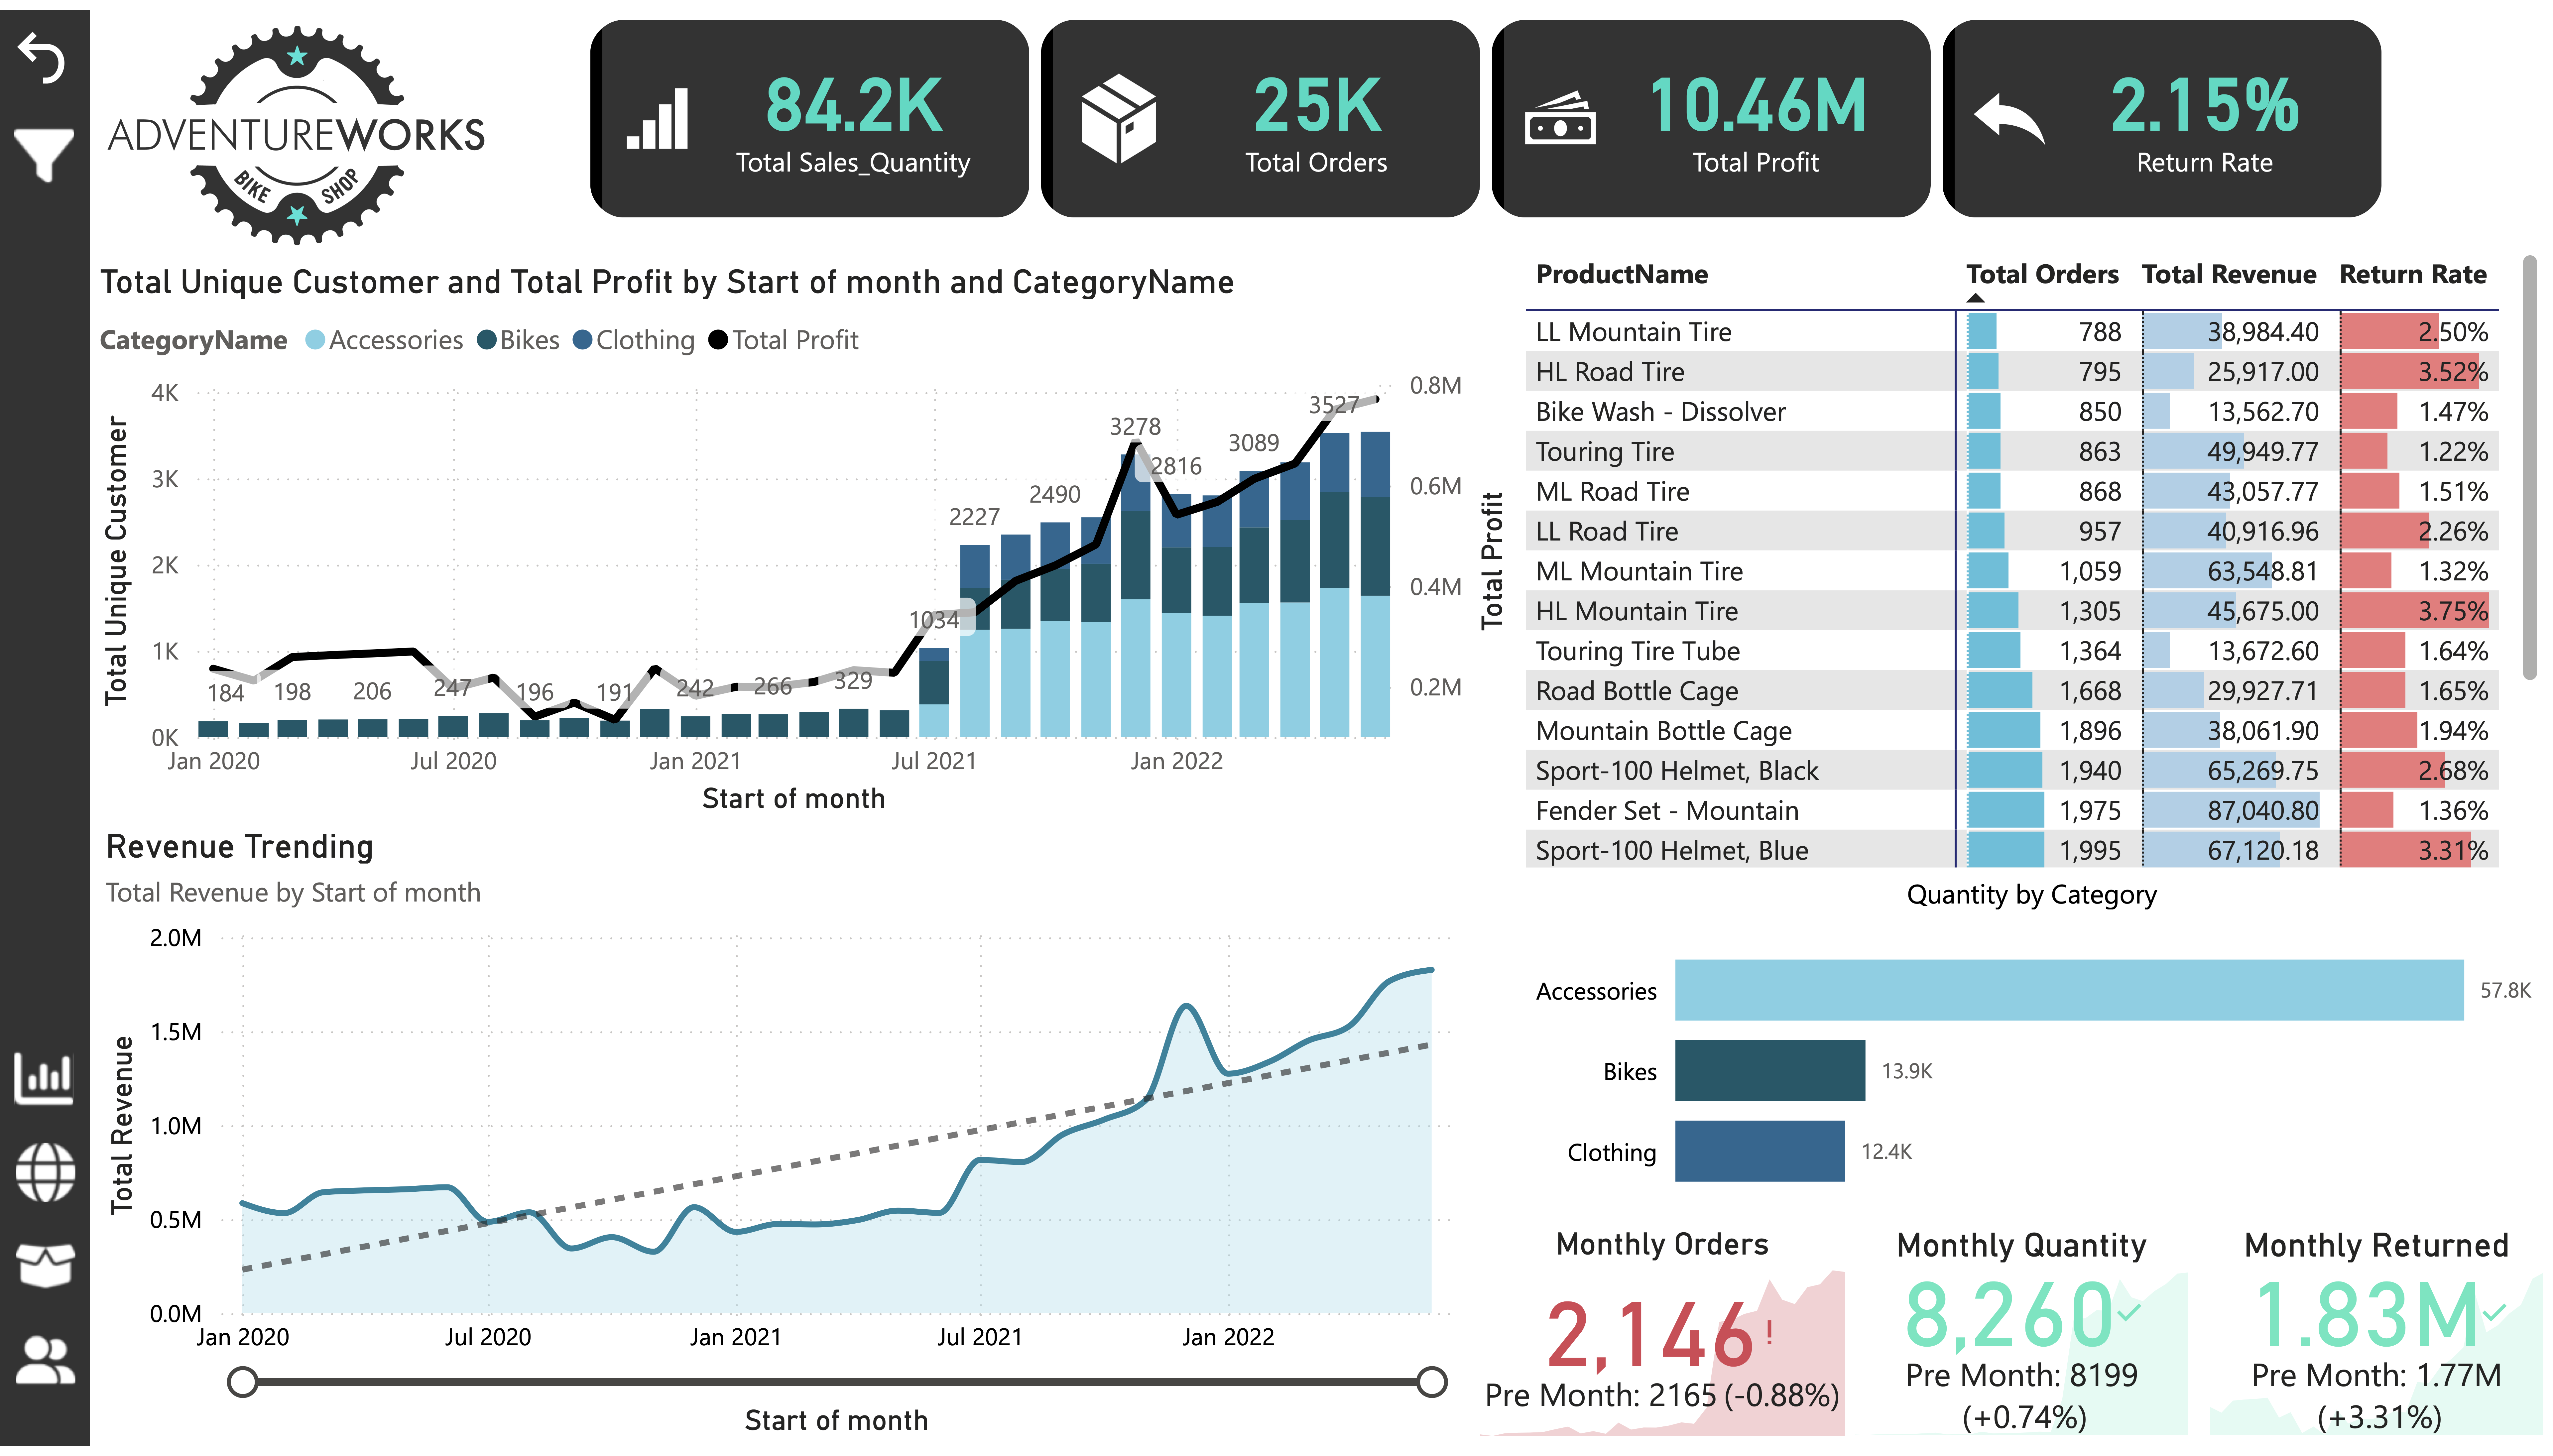

This screenshot's page, from the dashboard's own definition file:
{"tool":"powerbi","page":{"name":"Exec Dashboard","canvas":[1280,720],"ordinal":0},"visuals":[{"type":"shape","title":"Left Nav Background","box":[0,0,45,720],"z":0},{"type":"actionButton","box":[2.5,516.7,45.6,37.8],"z":0,"group":"g1"},{"type":"actionButton","box":[3.3,5.6,35.6,35.6],"z":1000},{"type":"actionButton","box":[3.3,563.4,45.6,37.8],"z":1000,"group":"g1"},{"type":"group","id":"g1","title":"Navigation Buttons","box":[2.5,516.7,46.4,178.9],"z":2000},{"type":"actionButton","box":[3.3,611.1,45.6,37.8],"z":2000,"group":"g1"},{"type":"actionButton","box":[3.4,53.1,38.4,39.6],"z":3000},{"type":"actionButton","box":[3.3,657.8,45.6,37.8],"z":3000,"group":"g1"},{"type":"image","title":"AW Logo","box":[25.7,0,245.6,126.1],"z":4000},{"type":"lineChart","title":"Revenue Trending","fields":{"Category":["dim_Date.Start of month"],"Y":["FactSales.Total Revenue"]},"box":[48,408.6,698.8,311.4],"z":5000},{"type":"clusteredBarChart","title":"Quantity by Category","fields":{"Category":["dim_productcategory.CategoryName"],"Y":["FactSales.Total Sales_Quantity"]},"box":[760.2,434.2,518,176.4],"z":6000},{"type":"pivotTable","fields":{"Values":["FactSales.Total Orders","FactSales.Total Revenue","FactSales.Return Rate"],"Rows":["dim_product.ProductName"]},"box":[760.2,117.2,518,318.1],"z":7000},{"type":"cardVisual","fields":{"Data":["FactSales.Total Sales_Quantity","FactSales.Total Orders","FactSales.Total Profit","FactSales.Return Rate"]},"box":[271.3,0,950,109.4],"z":8000},{"type":"kpi","title":"Monthly Orders","fields":{"Indicator":["FactSales.Total Orders"],"TrendLine":["dim_Date.Start of month"],"Goal":["FactSales.Previous Month Orders"]},"box":[736.7,609.5,193.1,110.5],"z":9000},{"type":"kpi","title":"Monthly Quantity","fields":{"TrendLine":["dim_Date.Start of month"],"Indicator":["FactSales.Total Sales_Quantity"],"Goal":["FactSales.Previous Month Sales_Quantity"]},"box":[925.4,609.5,177.5,110.5],"z":10000},{"type":"lineStackedColumnComboChart","fields":{"Category":["dim_Date.Start of month"],"Y":["FactSales.Total Unique Customer"],"Y2":["FactSales.Total Profit"],"Series":["dim_productcategory.CategoryName"]},"box":[44.7,126.1,715.5,282.4],"z":11000},{"type":"kpi","title":"Monthly Returned","fields":{"TrendLine":["dim_Date.Start of month"],"Goal":["FactSales.Previous Month Revenue"],"Indicator":["FactSales.Total Revenue"]},"box":[1102.9,609.5,177.5,110.5],"z":12000}]}

Visuals, with their boxes on the page's 1280x720 design canvas (x1, y1, x2, y2). These are canvas units, not pixel positions in the 2553x1456 screenshot, which may show the page scaled, cropped or inside an application window:
"Left Nav Background" shape: pyautogui.locateOnScreen(0, 0, 45, 720)
actionButton: pyautogui.locateOnScreen(2, 517, 48, 554)
actionButton: pyautogui.locateOnScreen(3, 6, 39, 41)
actionButton: pyautogui.locateOnScreen(3, 563, 49, 601)
"Navigation Buttons" group: pyautogui.locateOnScreen(2, 517, 49, 696)
actionButton: pyautogui.locateOnScreen(3, 611, 49, 649)
actionButton: pyautogui.locateOnScreen(3, 53, 42, 93)
actionButton: pyautogui.locateOnScreen(3, 658, 49, 696)
"AW Logo" image: pyautogui.locateOnScreen(26, 0, 271, 126)
"Revenue Trending" lineChart: pyautogui.locateOnScreen(48, 409, 747, 720)
"Quantity by Category" clusteredBarChart: pyautogui.locateOnScreen(760, 434, 1278, 611)
pivotTable - FactSales.Total Orders x FactSales.Total Revenue: pyautogui.locateOnScreen(760, 117, 1278, 435)
cardVisual - FactSales.Total Sales_Quantity x FactSales.Total Orders: pyautogui.locateOnScreen(271, 0, 1221, 109)
"Monthly Orders" kpi: pyautogui.locateOnScreen(737, 610, 930, 720)
"Monthly Quantity" kpi: pyautogui.locateOnScreen(925, 610, 1103, 720)
lineStackedColumnComboChart - dim_Date.Start of month x FactSales.Total Unique Customer: pyautogui.locateOnScreen(45, 126, 760, 408)
"Monthly Returned" kpi: pyautogui.locateOnScreen(1103, 610, 1280, 720)
